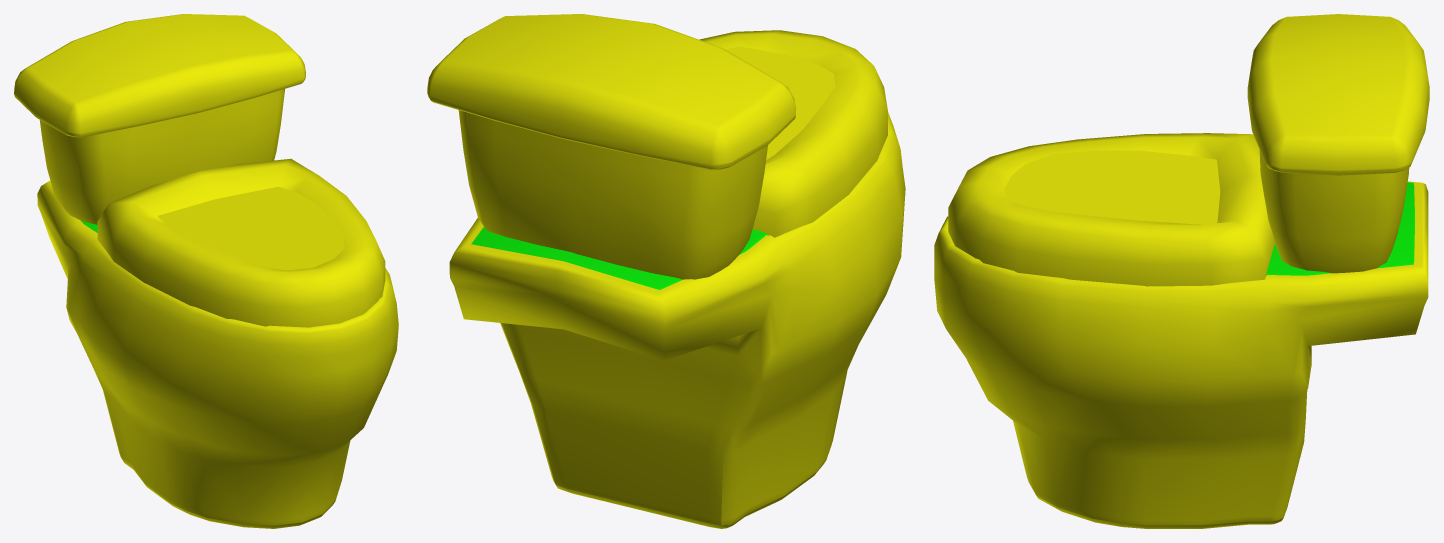
Rendered from GoldenToilet.fbx.
3 views of the same model, side by side, from view 1: azimuth 30°, elevation 25°; view 2: azimuth 150°, elevation 25°; view 3: azimuth 270°, elevation 25° (orthographic). The views are drawn at different scales.
Visible parts, largest first — view 1: GoldenToilet_Outline4; view 2: GoldenToilet_Outline4, GoldenToilet_Outline3; view 3: GoldenToilet_Outline4, GoldenToilet_Outline3.
Part boxes in pixels (x1=…): GoldenToilet_Outline4: x1=14, y1=14, x2=398, y2=528; GoldenToilet_Outline4: x1=427, y1=14, x2=905, y2=528; GoldenToilet_Outline3: x1=471, y1=227, x2=768, y2=289; GoldenToilet_Outline4: x1=934, y1=14, x2=1429, y2=528; GoldenToilet_Outline3: x1=1266, y1=182, x2=1414, y2=275.
Size of the model in its own units: 139 by 202 by 210.
